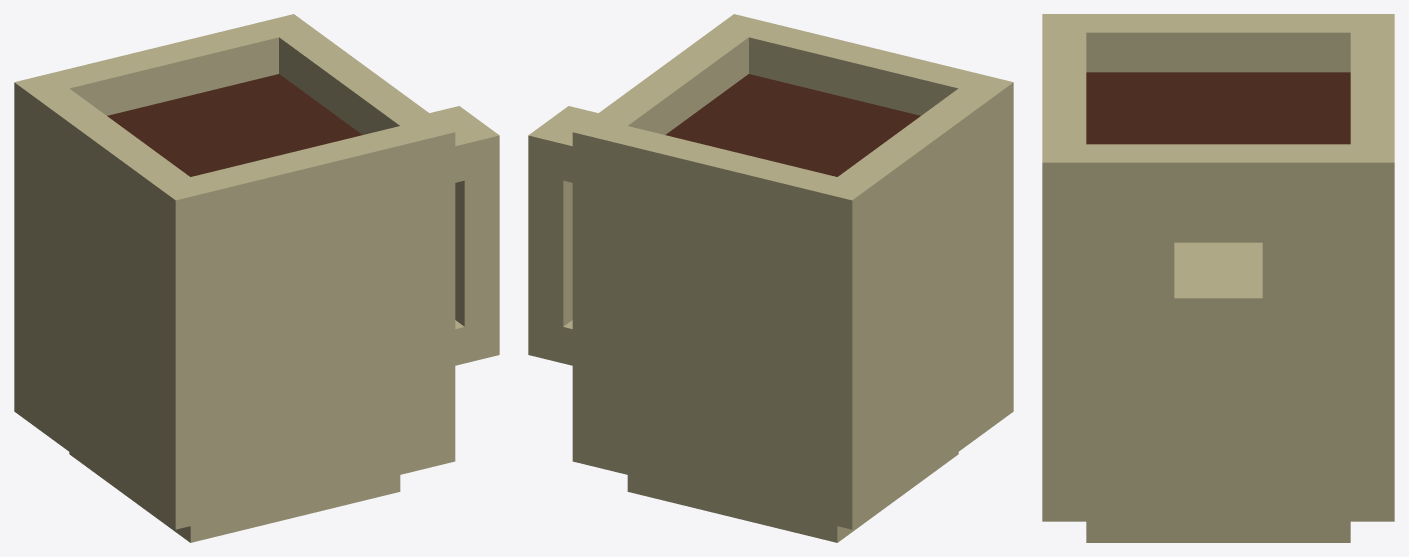
The model's file is Voxel Universe Objects-64.obj.
3 views of the same model, side by side, from view 1: azimuth 30°, elevation 25°; view 2: azimuth 150°, elevation 25°; view 3: azimuth 270°, elevation 25° (orthographic). The views are drawn at different scales.
Bounding box in the file's own units: 1.1 × 1 × 0.8.
Materials: 1 (1 with a texture image).
